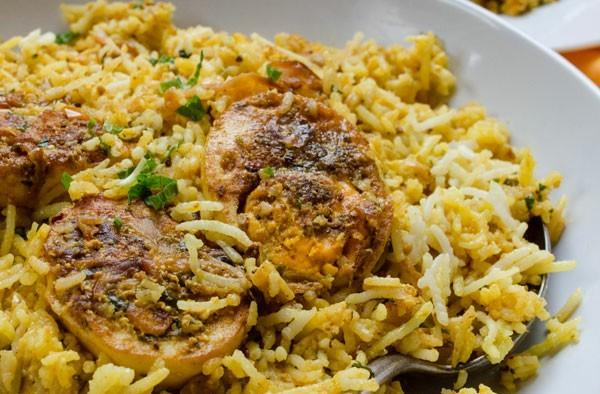Biryani: (0, 0, 573, 394)
